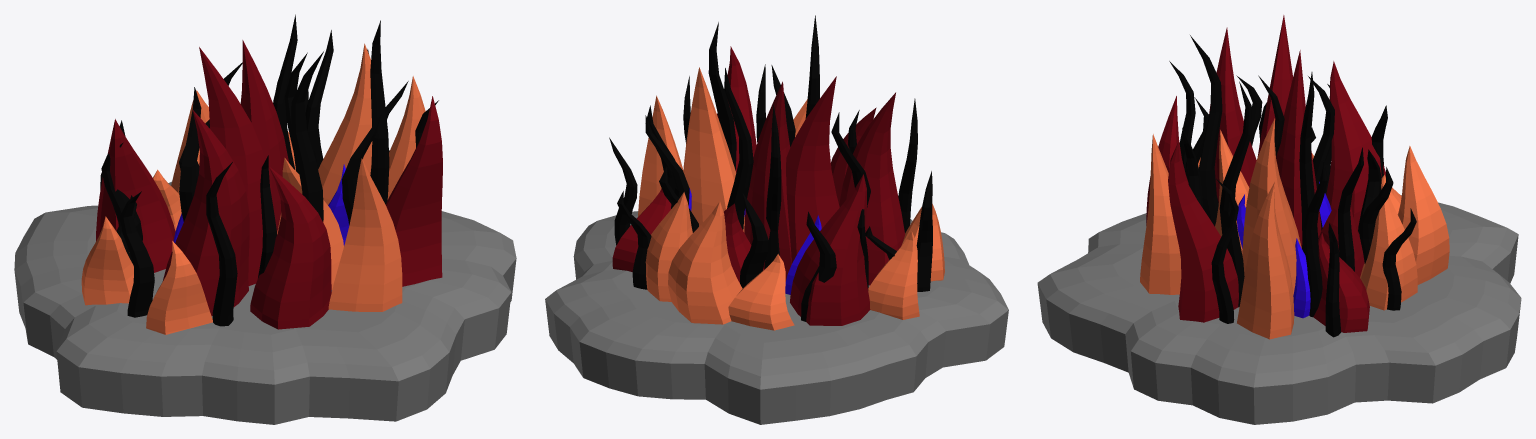
Rendered from town-fire.obj.
3 renders of one model, left to right at view 1: azimuth 30°, elevation 25°; view 2: azimuth 150°, elevation 25°; view 3: azimuth 270°, elevation 25°, orthographic. The views are drawn at different scales.
Visible parts, largest first — view 1: flames-state-00, hearth; view 2: flames-state-00, hearth; view 3: flames-state-00, hearth.
Part boxes in pixels (x1,y1,x2,y2): flames-state-00: (81,14,442,334); hearth: (14,181,516,424); flames-state-00: (609,15,944,330); hearth: (545,211,1008,424); flames-state-00: (1140,15,1449,339); hearth: (1037,195,1521,424).
Bounding box in the file's own units: 6.95 × 4.54 × 6.84.
